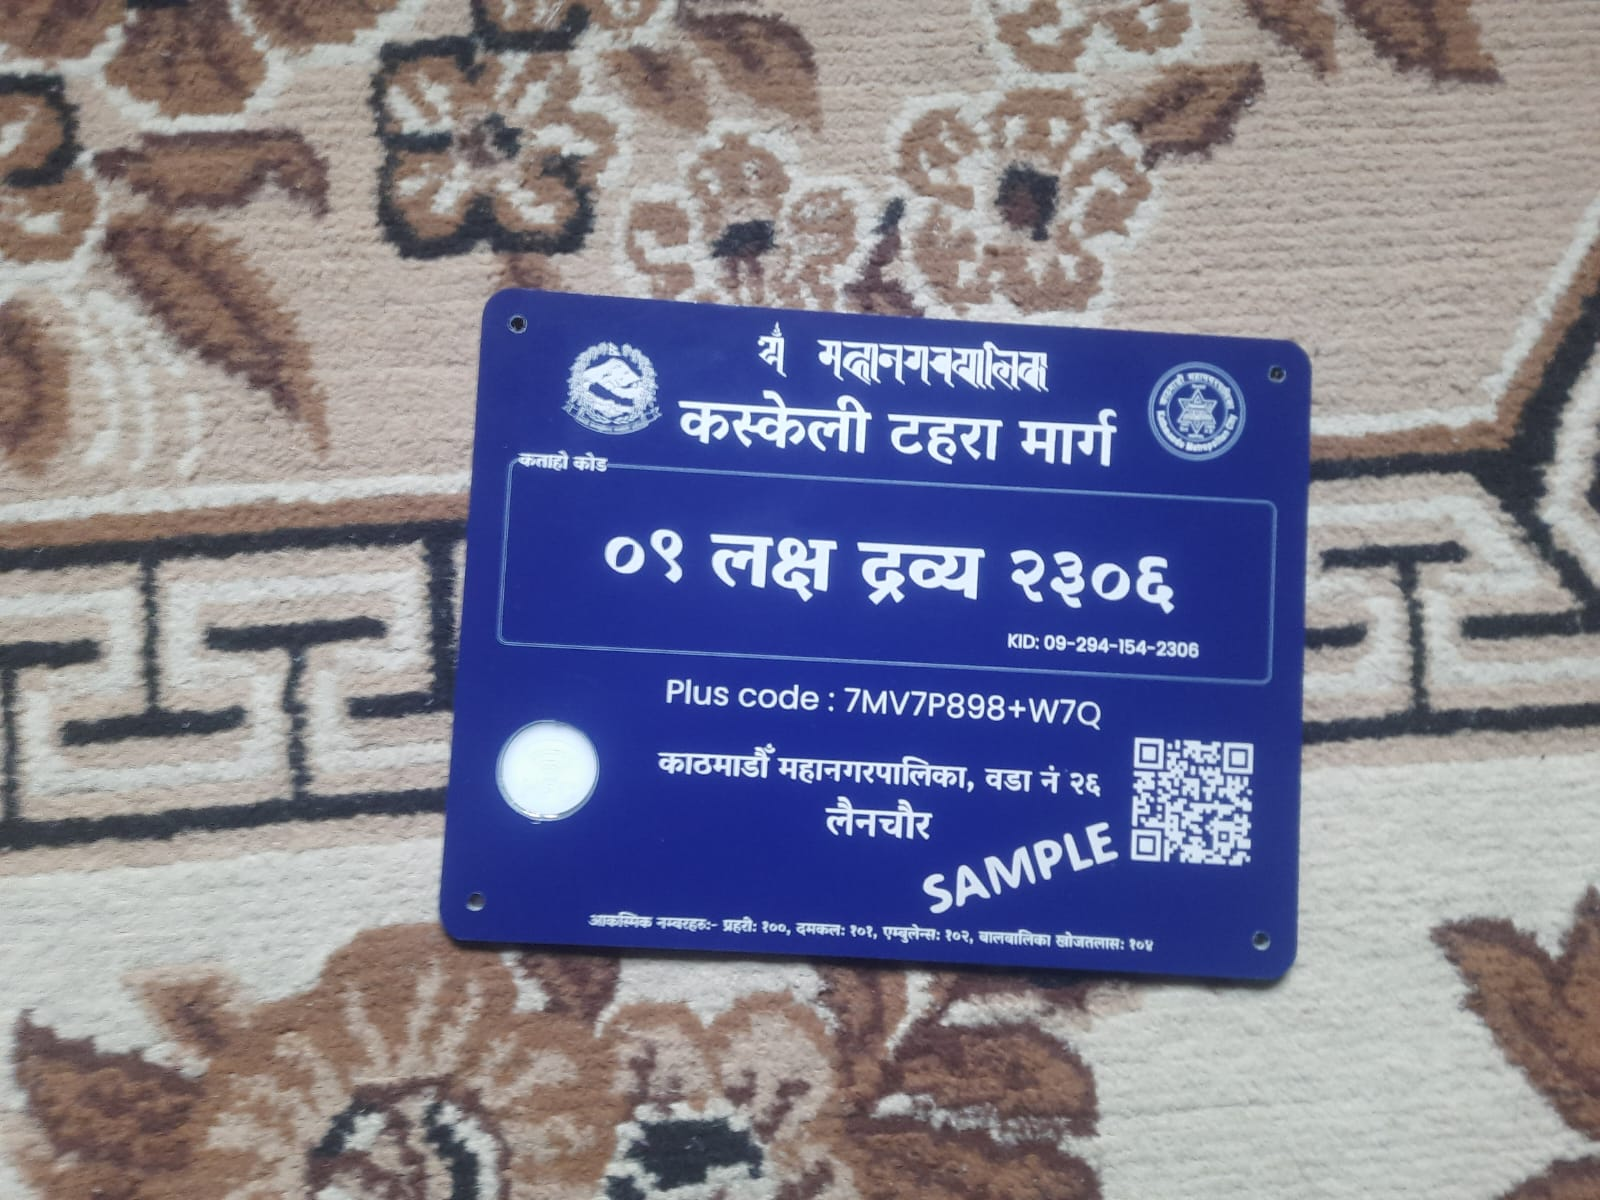Plate: (437, 276, 1317, 992)
